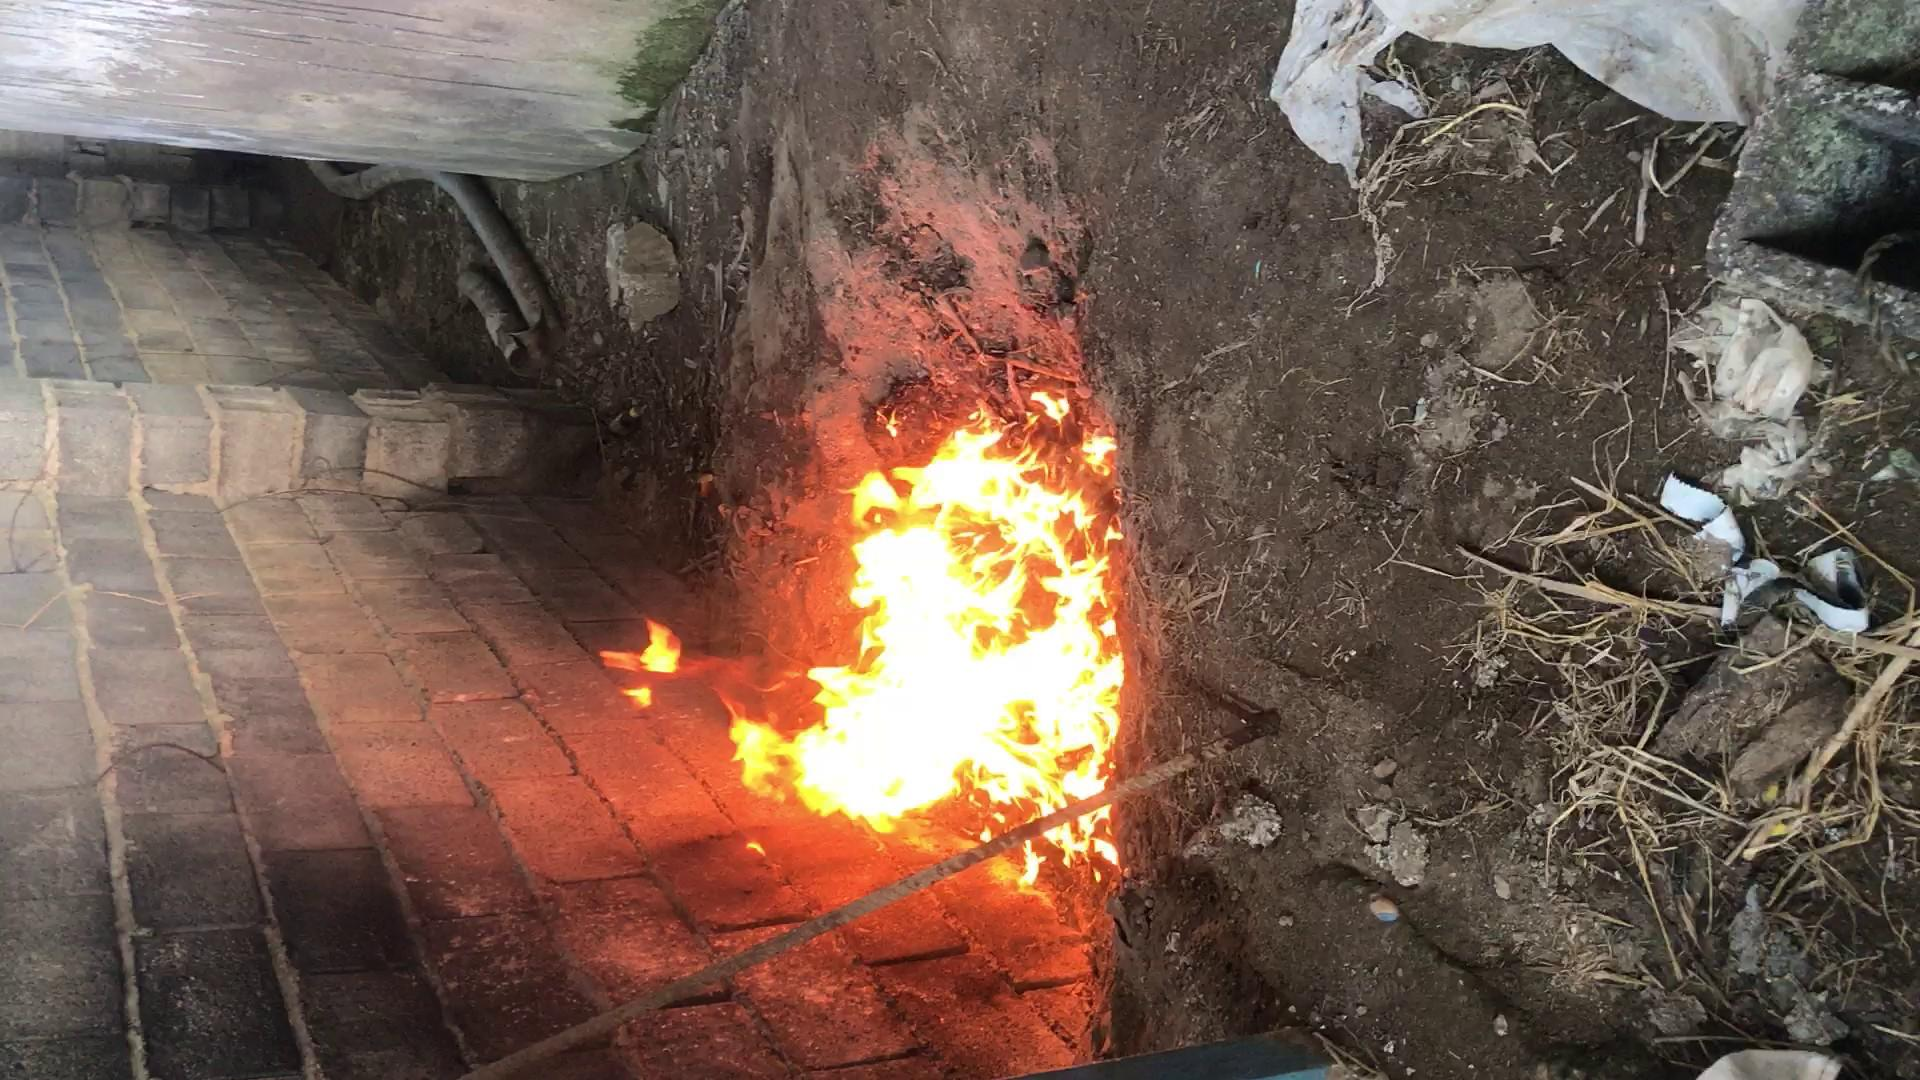fire: (364, 389, 1307, 624)
